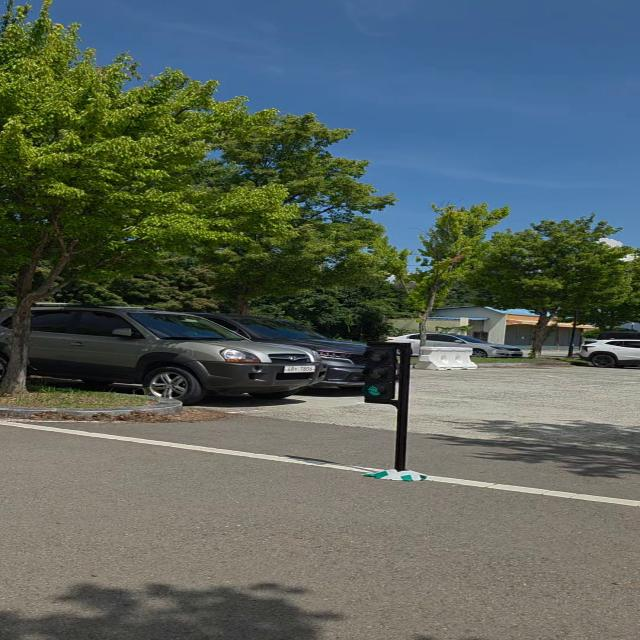green: (360, 343, 403, 402)
